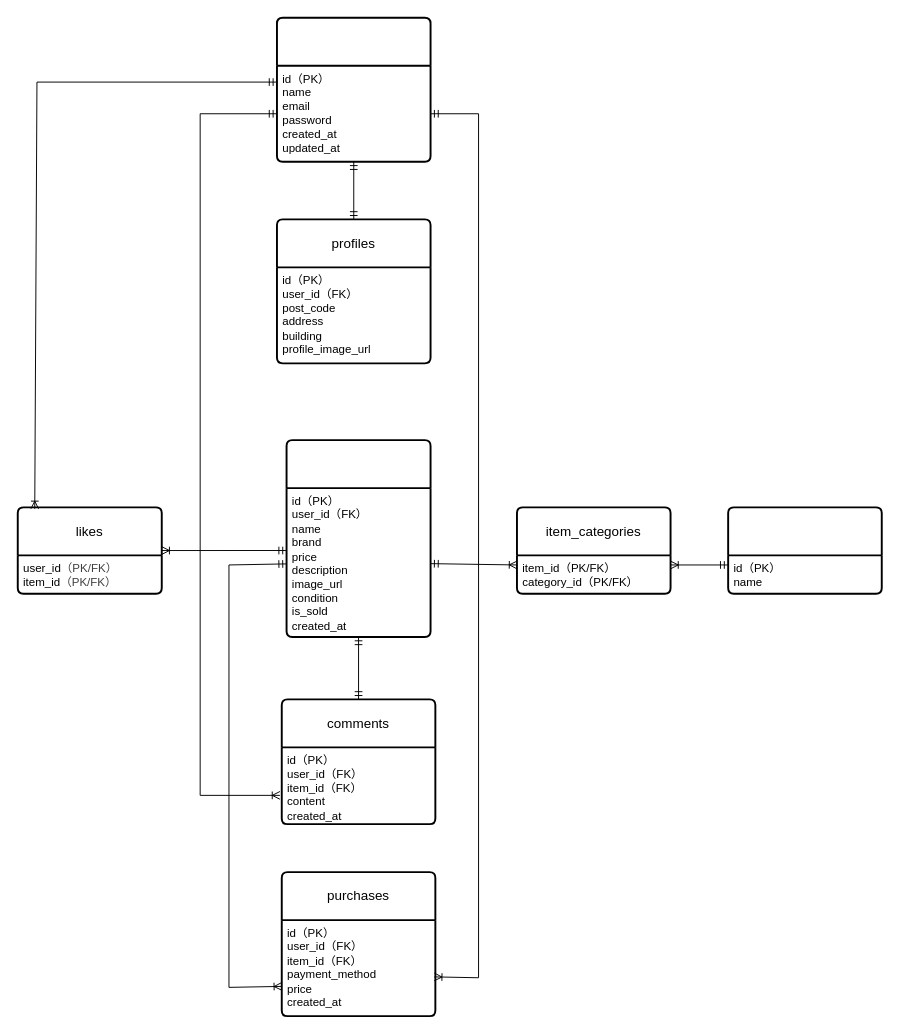
The diagram is 899 pixels wide and 1033 high, and some of its shapes have lost their labels. The shapes that lost their labels are listed below. From the top down, each one's box as (x1, y1, x2, y2) in pixels, then its label:
(276, 16, 431, 162): users
(285, 439, 431, 637): items
(727, 506, 882, 594): categories
